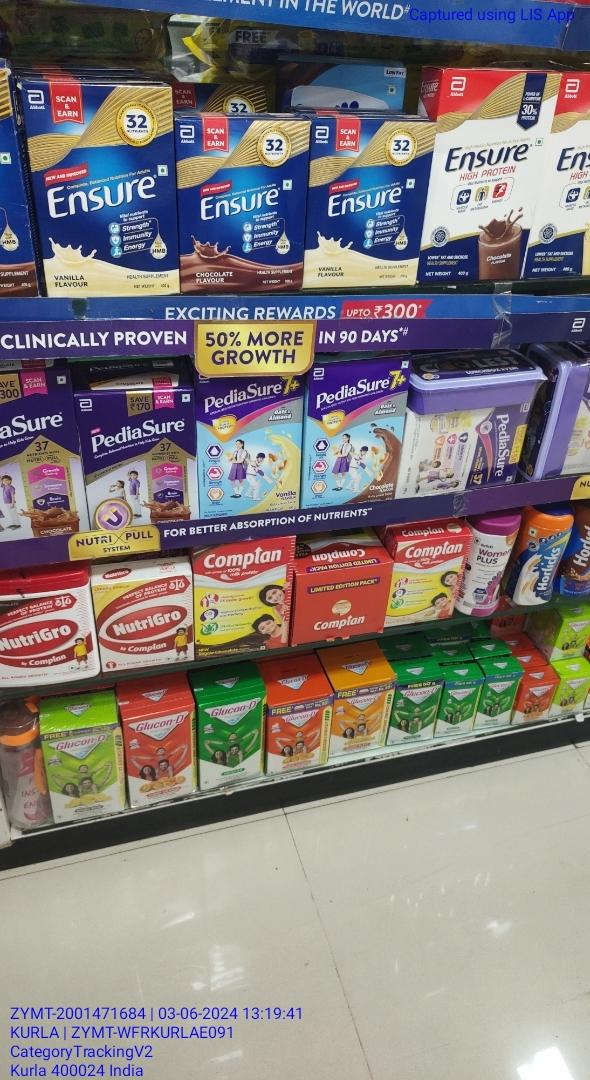COMPLAN_KESAR_BADAM_200_GMS_PACK: (396, 535, 465, 621)
ENSURE_VANILLA_400_G_PACK: (32, 80, 175, 290), (306, 110, 421, 290)
HORLICK_CLASSIC_MALT_200_G_JAR: (511, 501, 568, 608)
PEDIASURE_7_PLUS_CHOCOLATE_400_G_PACK: (303, 358, 406, 509)
PEDIASURE_CHOCOLATE_500_G_PACK: (78, 391, 196, 521)
